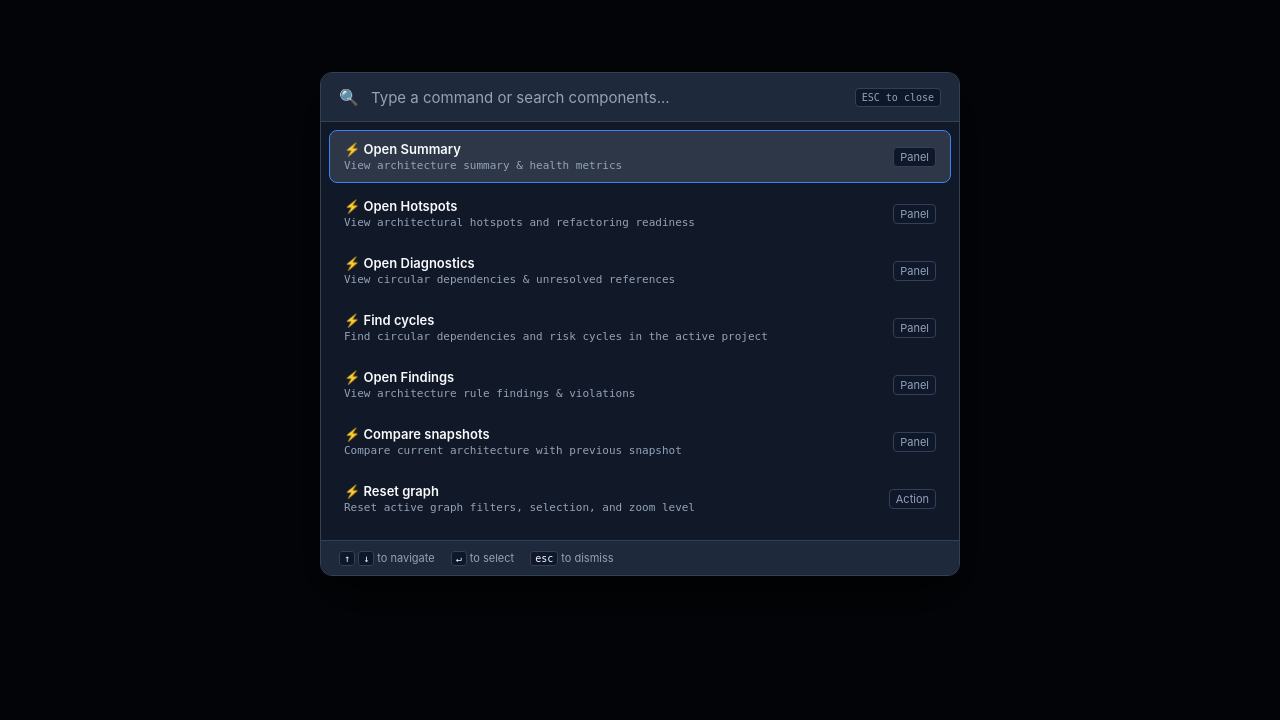
Test: CommandPalette › renders mounted panel view when "Open Summary" command is selected
Click the option with test id "command-palette-item-cmd-summary". click: (412, 149)
box: [329, 130, 951, 183]
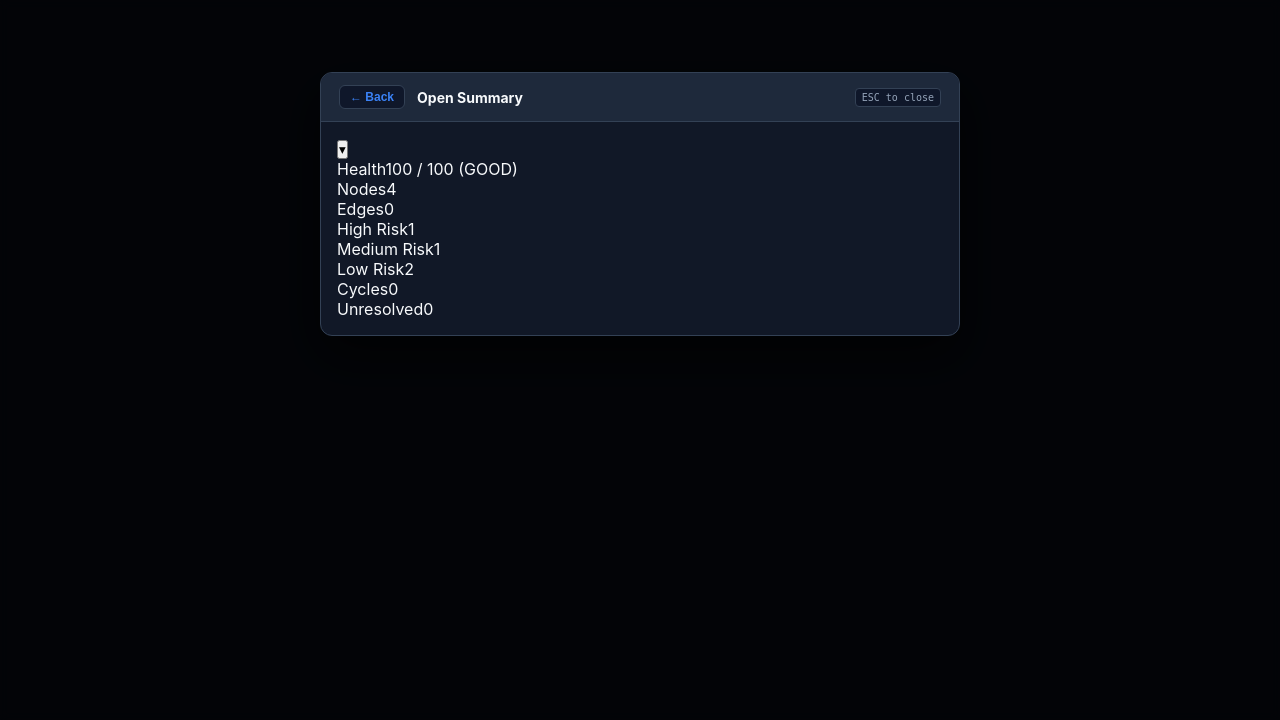
Expected: the text "Open Summary" is shown, [417, 88, 523, 106]
Expected: the element with test id "command-palette-panel-view" is shown, [321, 73, 959, 335]
Expected: the element with test id "command-palette-panel-content-summary" is shown, [337, 140, 518, 319]
